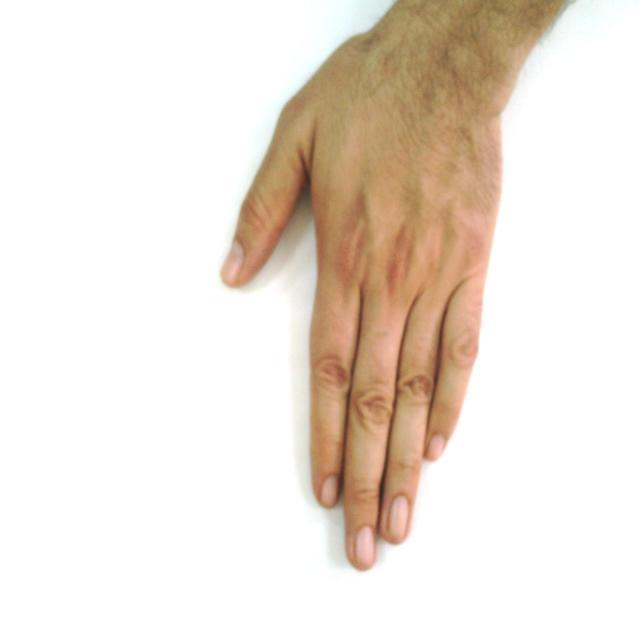Fingernail: (388, 496, 409, 541), (354, 528, 375, 569), (223, 244, 244, 280), (323, 477, 340, 507), (428, 436, 444, 460)
